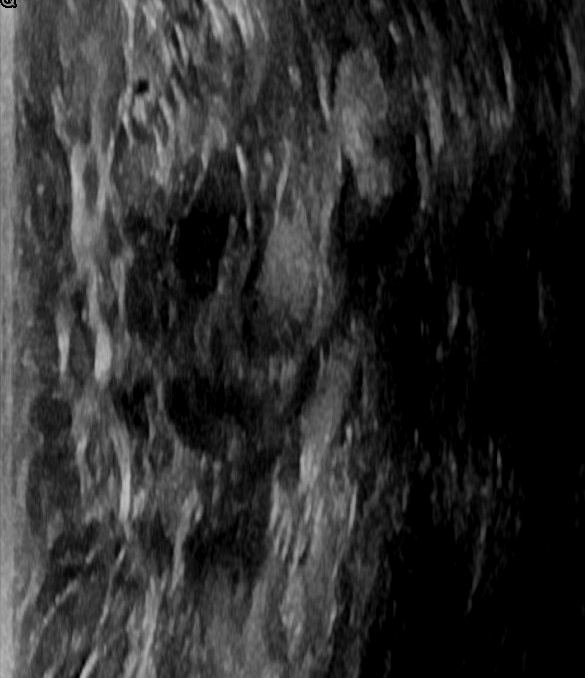Normal: (21, 1, 556, 674)
